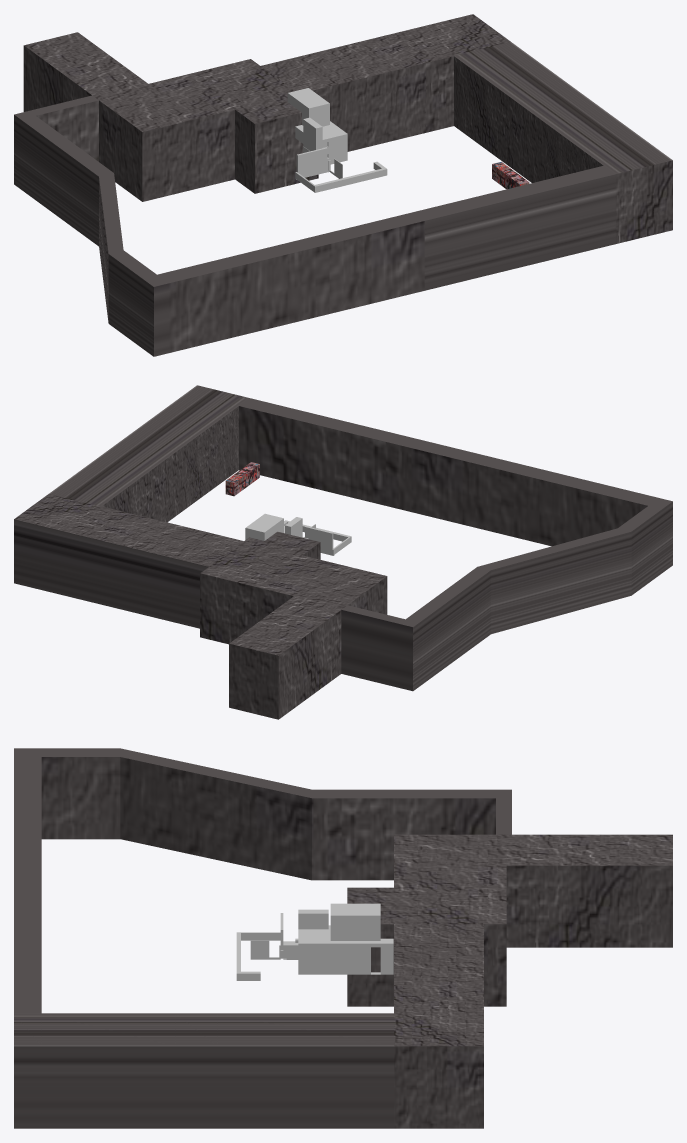
The model's file is decor1.obj.
The picture shows the model from 3 angles, top to bottom: view 1: azimuth 30°, elevation 25°; view 2: azimuth 150°, elevation 25°; view 3: azimuth 270°, elevation 25°; orthographic projection. The views are drawn at different scales.
Visible parts, largest first — view 1: Cube.024_Cube.023, Cube.012_Cube.014, Cube.009_Cube.008, Cube.025_Cube.013; view 2: Cube.024_Cube.023, Cube.012_Cube.014, Cube.009_Cube.008, Cube.025_Cube.013; view 3: Cube.024_Cube.023, Cube.012_Cube.014, Cube.009_Cube.008.
Boxes of the visible parts, x1,y1,x2,y2 form: Cube.024_Cube.023: (14,14,672,356); Cube.012_Cube.014: (287,88,347,164); Cube.009_Cube.008: (295,146,387,192); Cube.025_Cube.013: (492,161,529,189); Cube.024_Cube.023: (14,385,672,719); Cube.012_Cube.014: (245,513,302,540); Cube.009_Cube.008: (284,520,351,555); Cube.025_Cube.013: (225,462,259,496); Cube.024_Cube.023: (14,748,672,1128); Cube.012_Cube.014: (295,903,393,974); Cube.009_Cube.008: (236,913,298,980).
Size of the model in its own units: 81786 by 11920 by 76431.
